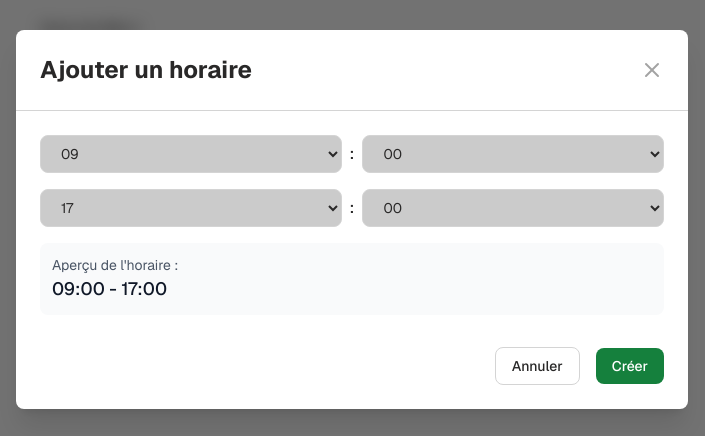
it: AddTimetableModal › should display error message on submission failure
Click the button "Créer": (630, 366) [596,348,664,384]
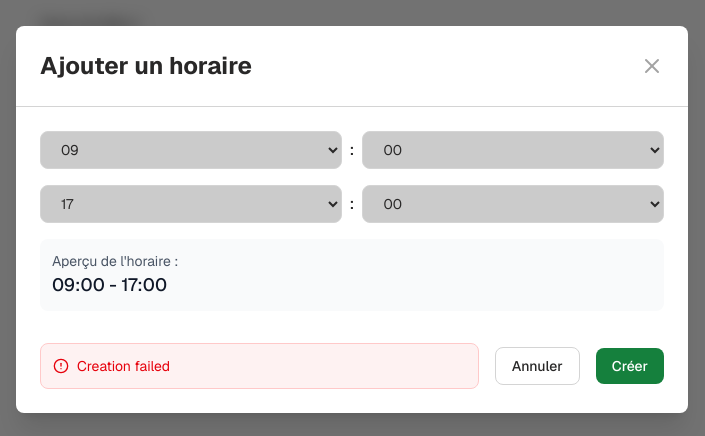
Now the text "Creation failed" is shown, box [77,356,170,374]
